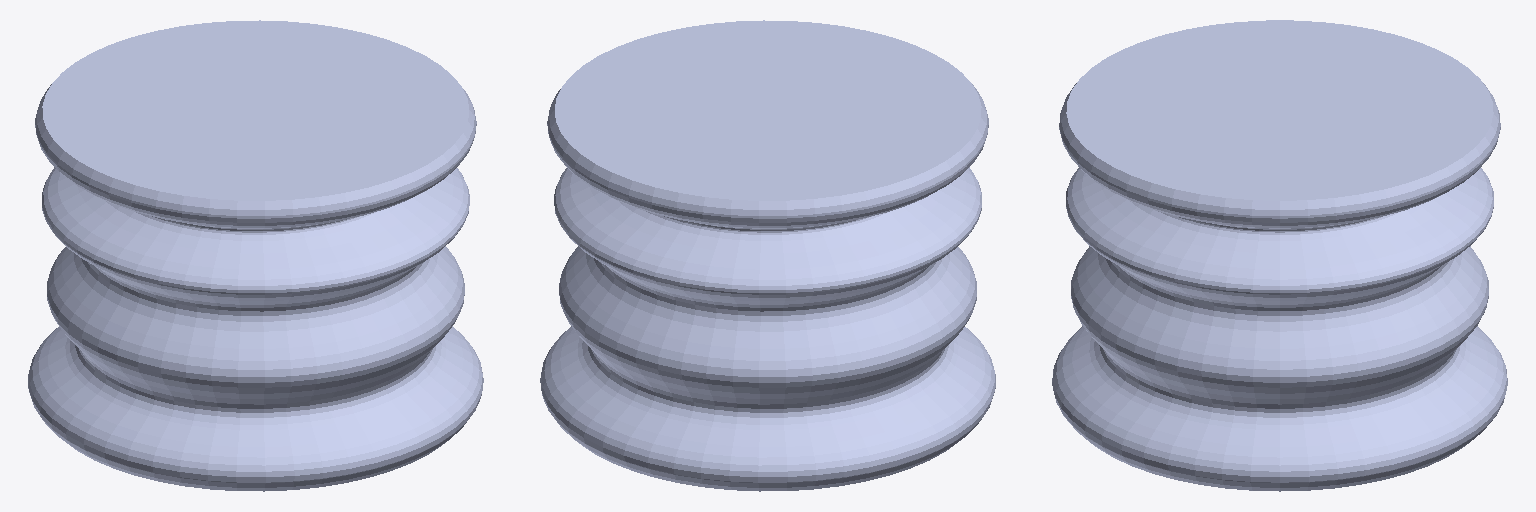
URDF robot description (load_1):
<?xml version="1.0" encoding="utf-8"?>
<!-- This URDF was automatically created by SolidWorks to URDF Exporter! Originally created by [author] ([email redacted]) 
     Commit Version: 1.6.0-4-g7f85cfe  Build Version: 1.6.7995.38578
     For more information, please see http://wiki.ros.org/sw_urdf_exporter -->
<robot
  name="load_1">
  <link
    name="base_link">
    <inertial>
      <origin
        xyz="2.2752E-07 -4.0315E-15 -0.015173"
        rpy="0 0 0" />
      <mass
        value="0.033429" />
      <inertia
        ixx="5.1131E-06"
        ixy="1.9383E-11"
        ixz="-6.4853E-11"
        iyy="6.5404E-06"
        iyz="1.5833E-18"
        izz="6.4417E-06" />
    </inertial>
    <visual>
      <origin
        xyz="0 0 0"
        rpy="0 0 0" />
      <geometry>
        <mesh
          filename="package://load_1/meshes/base_link.STL" />
      </geometry>
      <material
        name="">
        <color
          rgba="0.79216 0.81961 0.93333 1" />
      </material>
    </visual>
    <collision>
      <origin
        xyz="0 0 0"
        rpy="0 0 0" />
      <geometry>
        <mesh
          filename="package://load_1/meshes/base_link.STL" />
      </geometry>
    </collision>
  </link>
</robot>

--- Facts derived from the render (not from the file) ---
Views: 3 orthographic renders of the robot side by side, from view 1: azimuth 30°, elevation 25°; view 2: azimuth 150°, elevation 25°; view 3: azimuth 270°, elevation 25°.
Robot: load_1 — 1 links, 0 joints (none); root link base_link; default pose: all joints at 0.
Visible links, largest first — view 1: base_link; view 2: base_link; view 3: base_link.
Link boxes in pixels (bbox=[...]): base_link: bbox=[28, 20, 483, 491]; base_link: bbox=[540, 20, 995, 491]; base_link: bbox=[1052, 20, 1507, 491].
Size in the robot's own frame: 0.0426 by 0.0427 by 0.03 metres.
Meshes: 1 distinct files referenced, 1 mesh visuals loaded (1 binary STL).